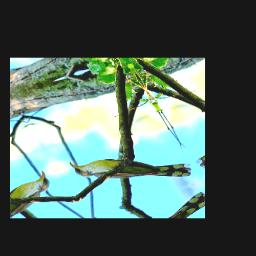Cuckoo: (69, 131, 196, 206)
